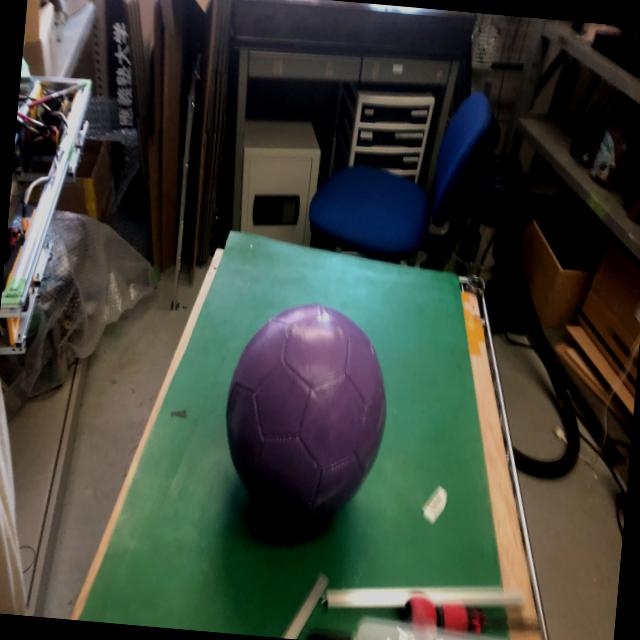purple_ball: (214, 298, 396, 526)
